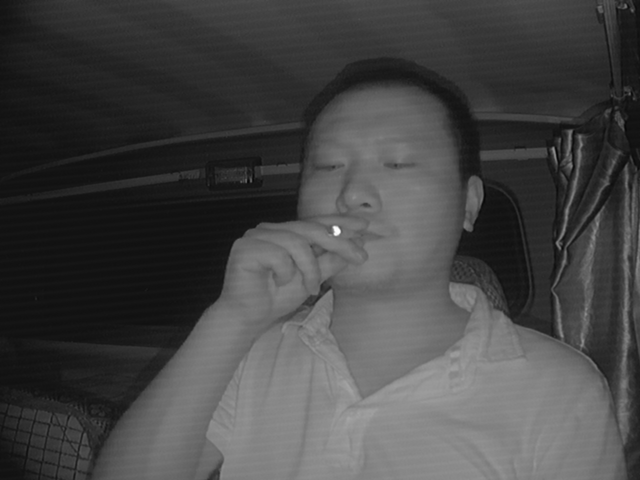hand: (244, 211, 362, 314)
